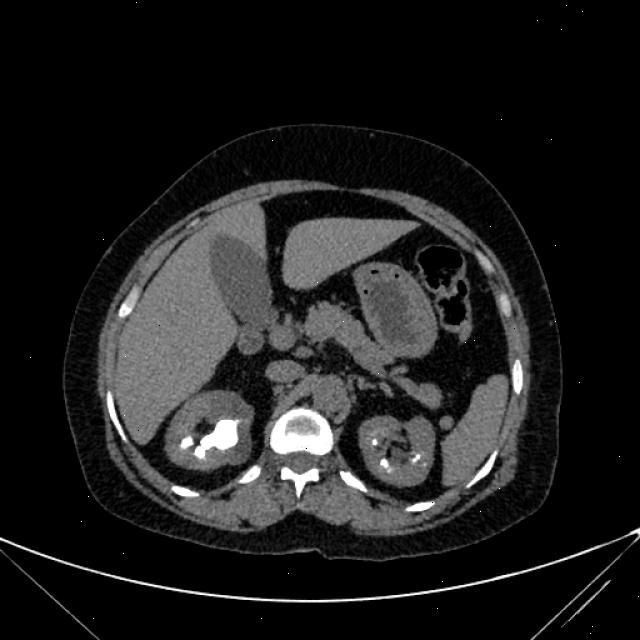kidneystone: (194, 420, 238, 458), (180, 436, 194, 448)
